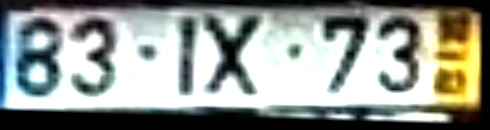3: (67, 15, 125, 101), (375, 12, 428, 97)
7: (321, 14, 376, 101)
8: (12, 15, 69, 102)
I: (174, 14, 202, 103)
X: (200, 13, 267, 101)
